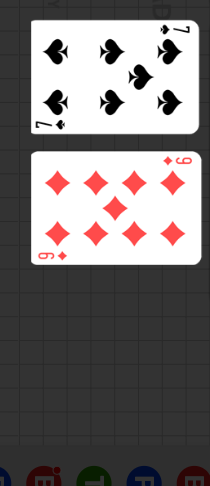7S: (157, 23, 192, 36)
9D: (36, 250, 69, 262)
